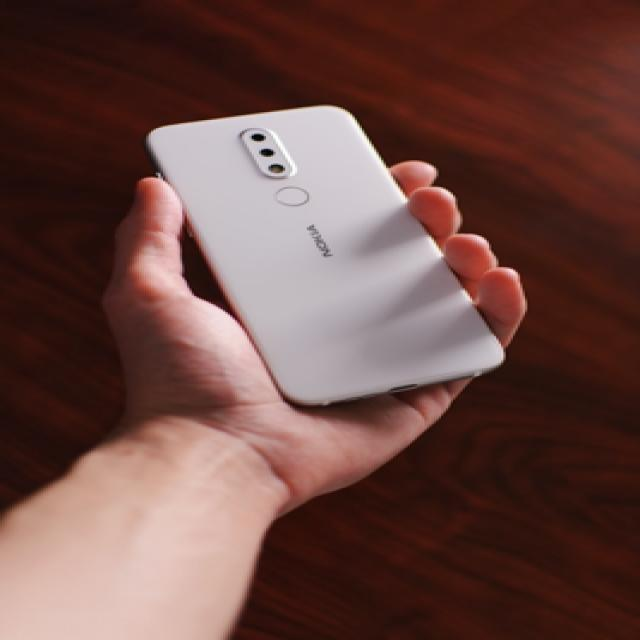cellphone: (141, 102, 506, 408)
